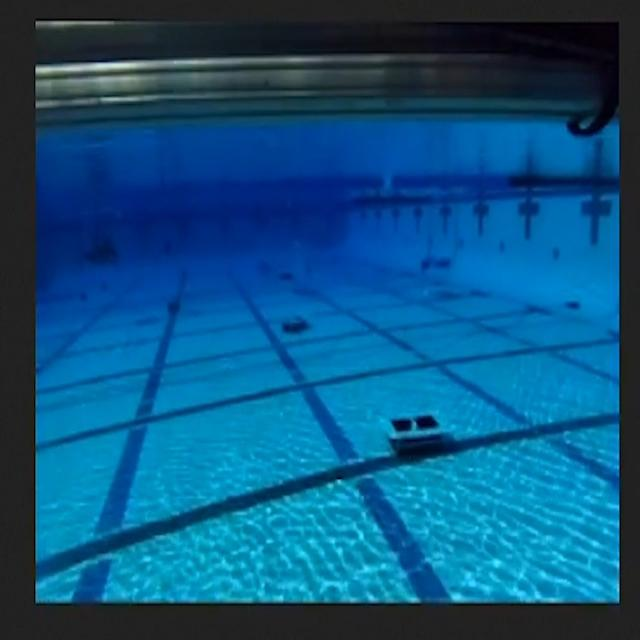Bin: (378, 407, 454, 441)
